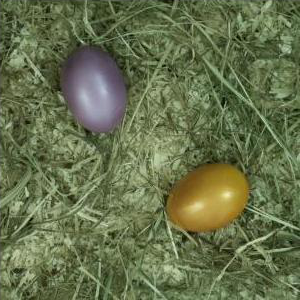egg: (61, 45, 129, 134), (163, 163, 250, 232)
